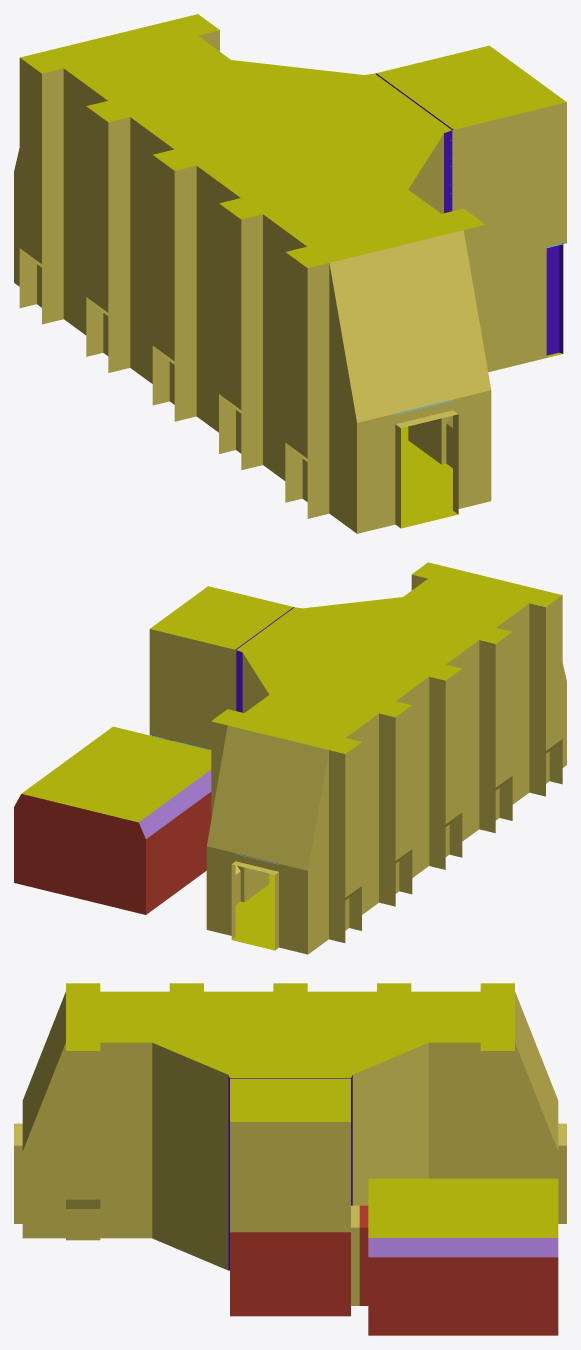
The model's file is Room2_7_LCZ.fbx.
The picture shows the model from 3 angles, top to bottom: view 1: azimuth 30°, elevation 25°; view 2: azimuth 150°, elevation 25°; view 3: azimuth 270°, elevation 25°; orthographic projection. The views are drawn at different scales.
Parts seen in each view (by area): view 1: Room2_7_LCZ; view 2: Room2_7_LCZ; view 3: Room2_7_LCZ.
Part boxes in pixels (left/top/right/bottom): Room2_7_LCZ: left=14, top=14, right=566, bottom=533; Room2_7_LCZ: left=14, top=562, right=566, bottom=954; Room2_7_LCZ: left=14, top=983, right=566, bottom=1335.
Bounding box in the file's own units: 13.74 × 8 × 20.48.
